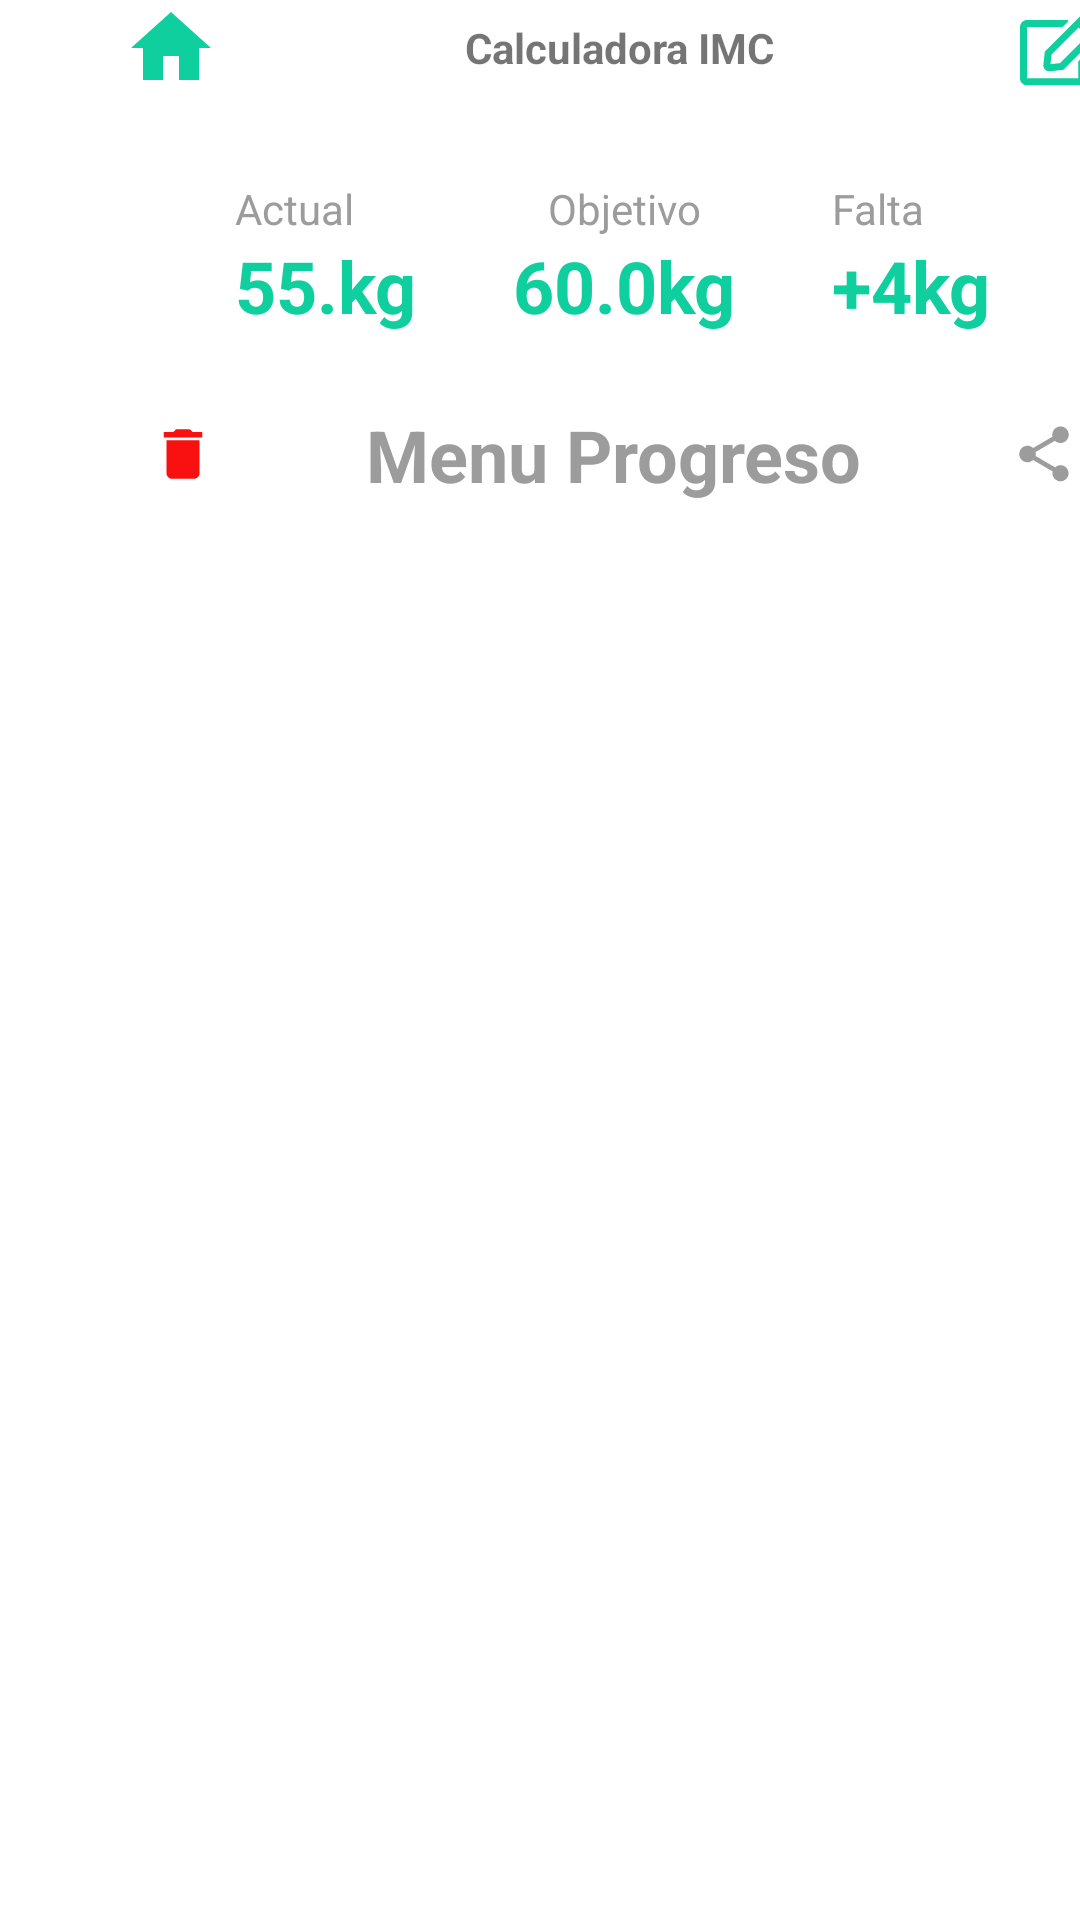

Named icons in this screenshot (1080×1920) and their bounding boxes, [x1,y1,x2,y2]:
delete: [163,429,203,479]
home: [131,12,211,80]
